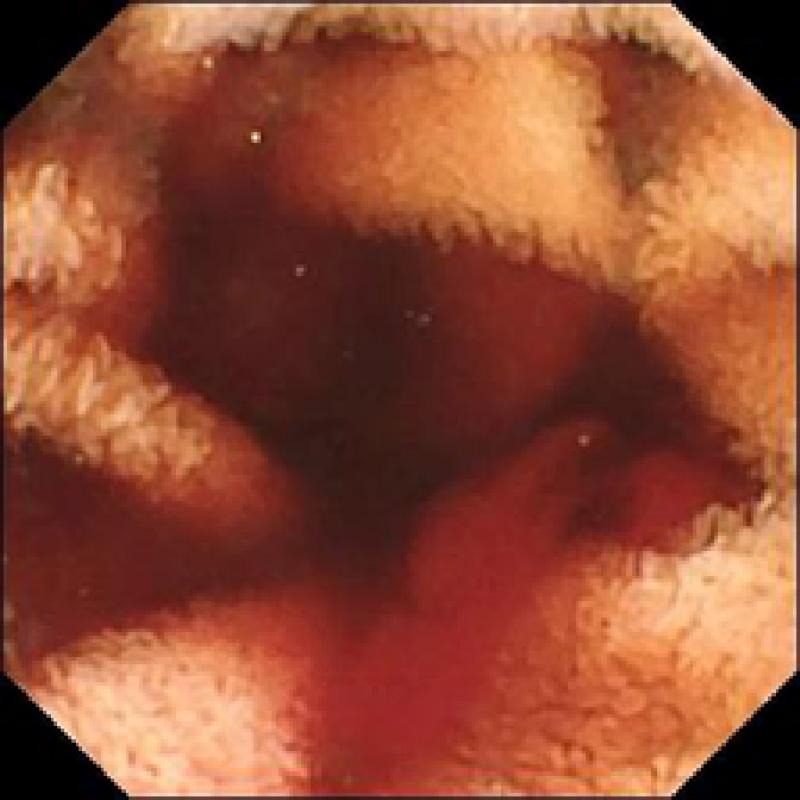bleeding: (4, 439, 743, 800), (446, 254, 564, 428)
